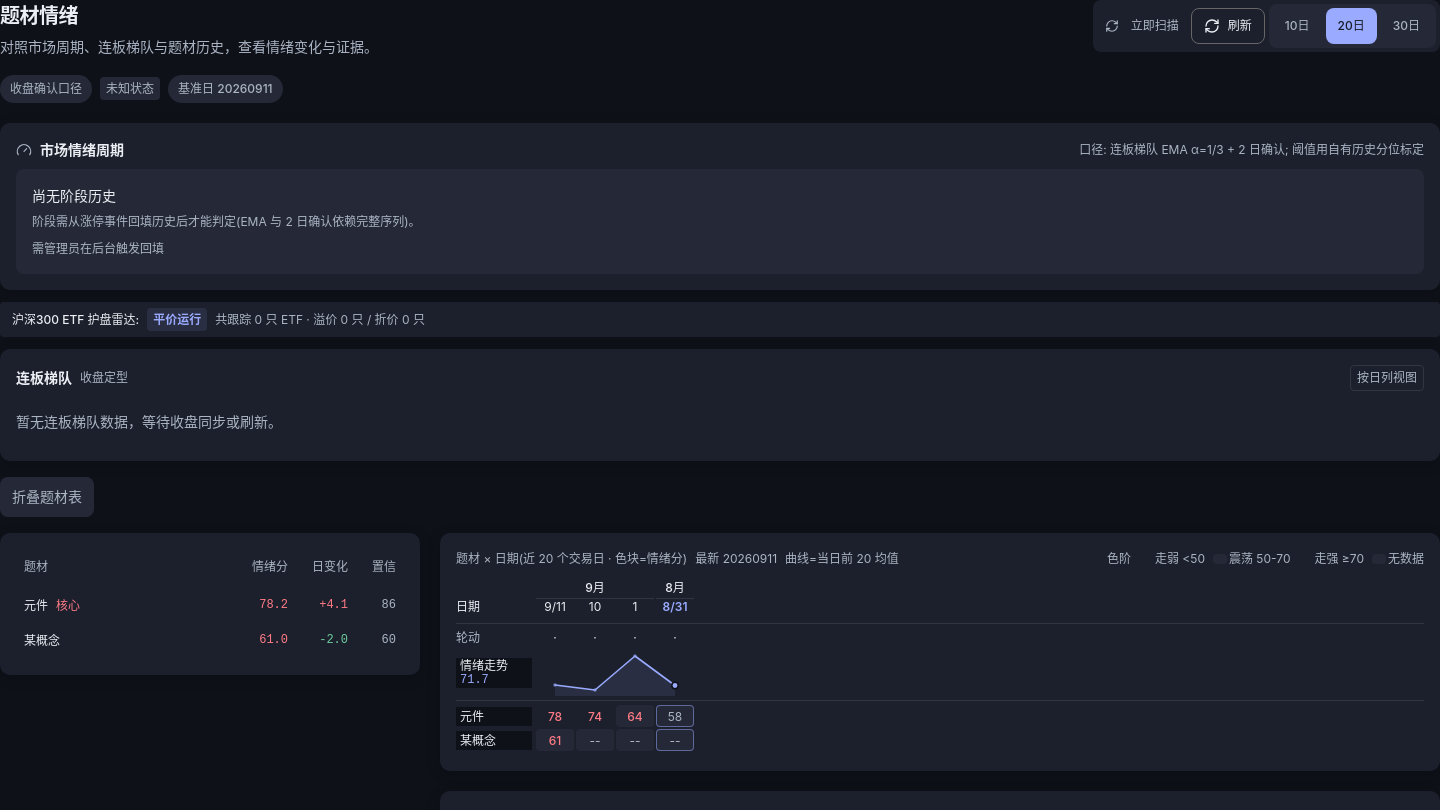
Scenario: ThemeMood 页面 › 走势曲线: 点选题材后明细里画出该题材曲线
Click the button "元件": (36, 606) left=16, top=588, right=404, bottom=623
(page scrolled)
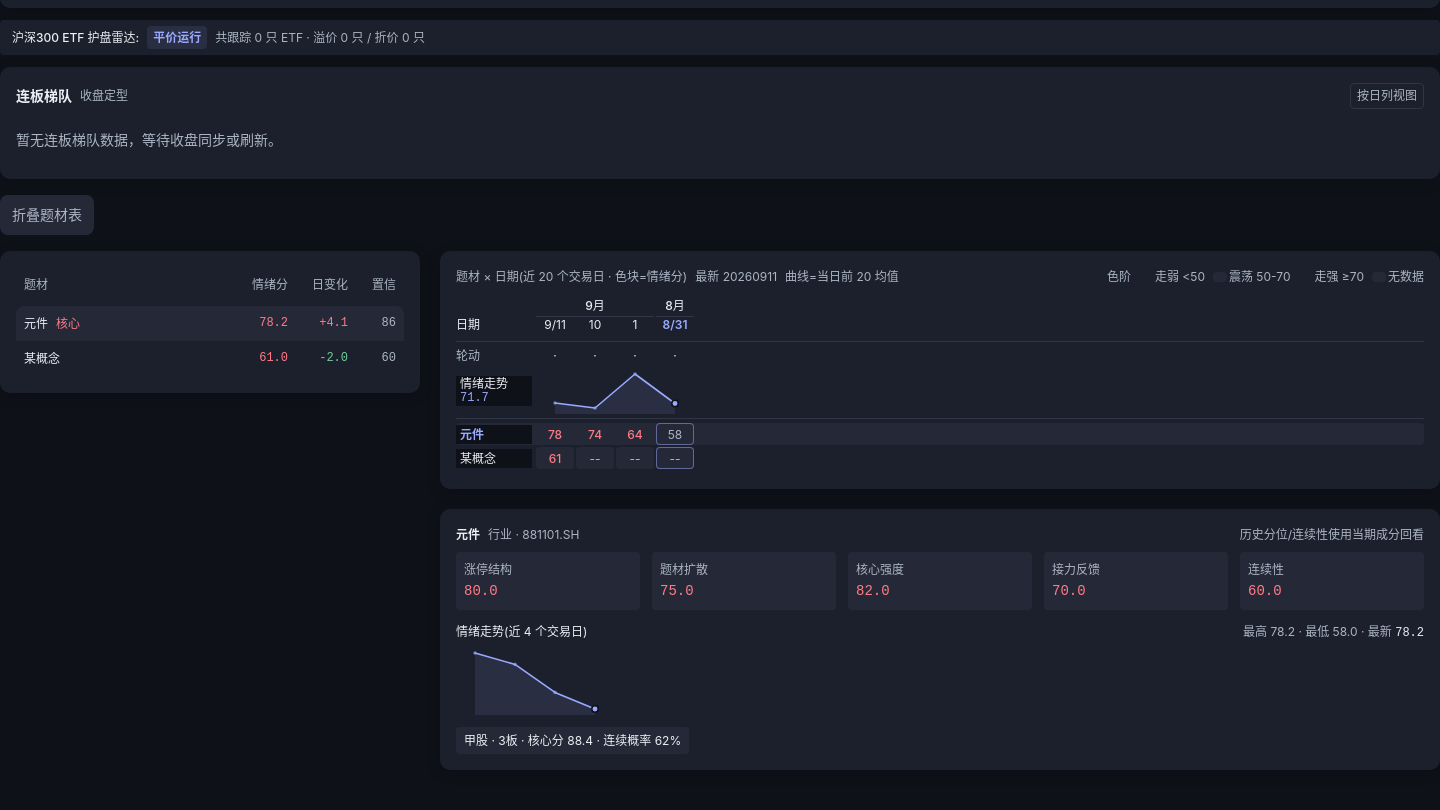
Expected: the text "情绪走势(近 4 个交易日)" is shown, left=456, top=622, right=587, bottom=641
Expected: the text "最高 78.2 · 最低 58.0 · 最新" is shown, left=1243, top=622, right=1424, bottom=643
